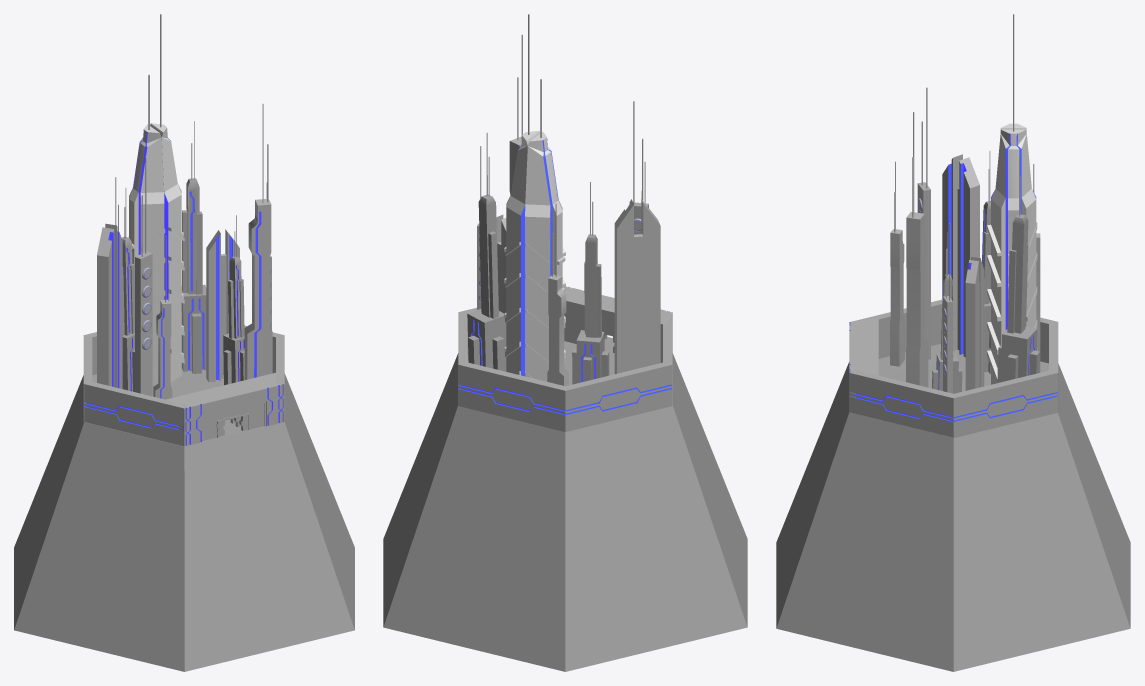
File: mother end.fbx
3 views of the same model, side by side, from view 1: azimuth 30°, elevation 25°; view 2: azimuth 150°, elevation 25°; view 3: azimuth 270°, elevation 25° (orthographic). The views are drawn at different scales.
Parts seen in each view (by area): view 1: pCylinder19, polySurface99, pCube78, pCylinder50, pCube133, polySurface103, polySurface111, polySurface114, polySurface119, polySurface109, polySurface110, pCylinder52 (+1 smaller); view 2: pCylinder19, polySurface99, polySurface111, pCube135, pCube136, polySurface103, polySurface110, pCylinder51, pCube78, polySurface114, pCylinder50, polySurface119; view 3: pCylinder19, polySurface99, polySurface111, pCube134, pCube55, polySurface103, pCylinder50, polySurface114, pCylinder52, pCube78, polySurface119, pCube133 (+5 smaller).
Part boxes in pixels (bbox=[...]): pCylinder19: bbox=[14, 368, 354, 671]; polySurface99: bbox=[128, 14, 184, 384]; pCube78: bbox=[166, 372, 284, 446]; pCylinder50: bbox=[244, 103, 272, 379]; pCube133: bbox=[84, 381, 187, 445]; polySurface103: bbox=[181, 121, 206, 373]; polySurface111: bbox=[97, 223, 122, 388]; polySurface114: bbox=[206, 229, 239, 382]; polySurface119: bbox=[135, 156, 152, 396]; polySurface109: bbox=[223, 215, 244, 385]; polySurface110: bbox=[122, 188, 134, 391]; pCylinder52: bbox=[153, 235, 172, 399]; pCylinder19: bbox=[383, 337, 747, 671]; polySurface99: bbox=[504, 14, 565, 381]; polySurface111: bbox=[614, 199, 660, 373]; pCube135: bbox=[561, 361, 672, 432]; pCube136: bbox=[458, 362, 565, 431]; polySurface103: bbox=[467, 132, 506, 371]; polySurface110: bbox=[572, 182, 609, 384]; pCylinder51: bbox=[547, 203, 568, 386]; pCube78: bbox=[564, 286, 672, 362]; polySurface114: bbox=[496, 214, 506, 313]; pCylinder50: bbox=[509, 34, 522, 194]; polySurface119: bbox=[629, 101, 648, 234]; pCylinder19: bbox=[776, 344, 1130, 671]; polySurface99: bbox=[987, 14, 1037, 384]; polySurface111: bbox=[942, 154, 979, 357]; pCube134: bbox=[952, 369, 1057, 437]; pCube55: bbox=[849, 369, 957, 437]; polySurface103: bbox=[997, 155, 1039, 382]; pCylinder50: bbox=[906, 112, 928, 387]; polySurface114: bbox=[965, 257, 984, 390]; pCylinder52: bbox=[890, 161, 904, 366]; pCube78: bbox=[849, 318, 878, 411]; polySurface119: bbox=[917, 87, 930, 359]; pCube133: bbox=[850, 299, 942, 358].
Size of the model in its own units: 4272 by 6620 by 3700.
